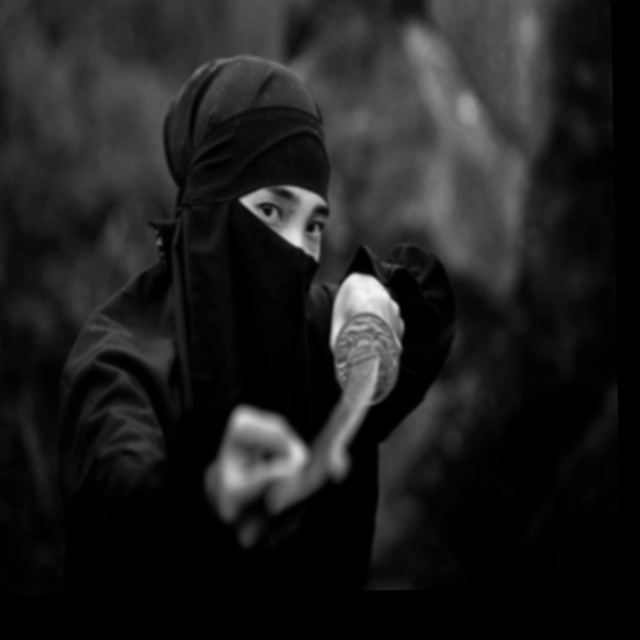Sharp-Object: (269, 303, 412, 526)
